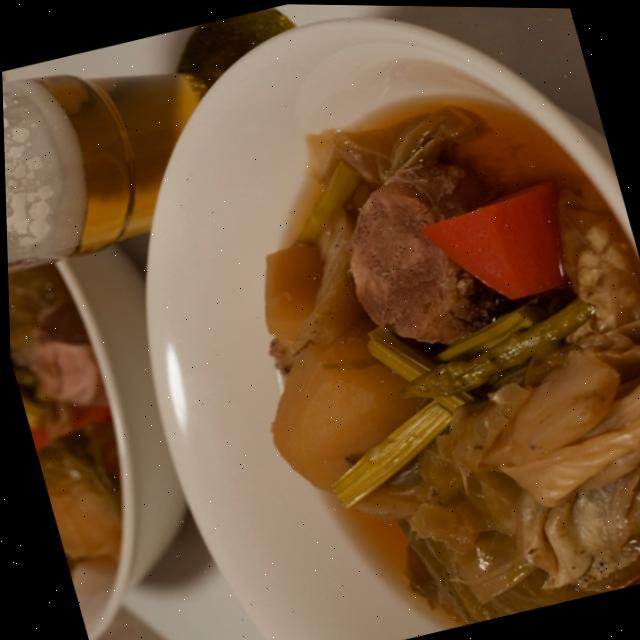汤锅炖物: (116, 12, 640, 640)
